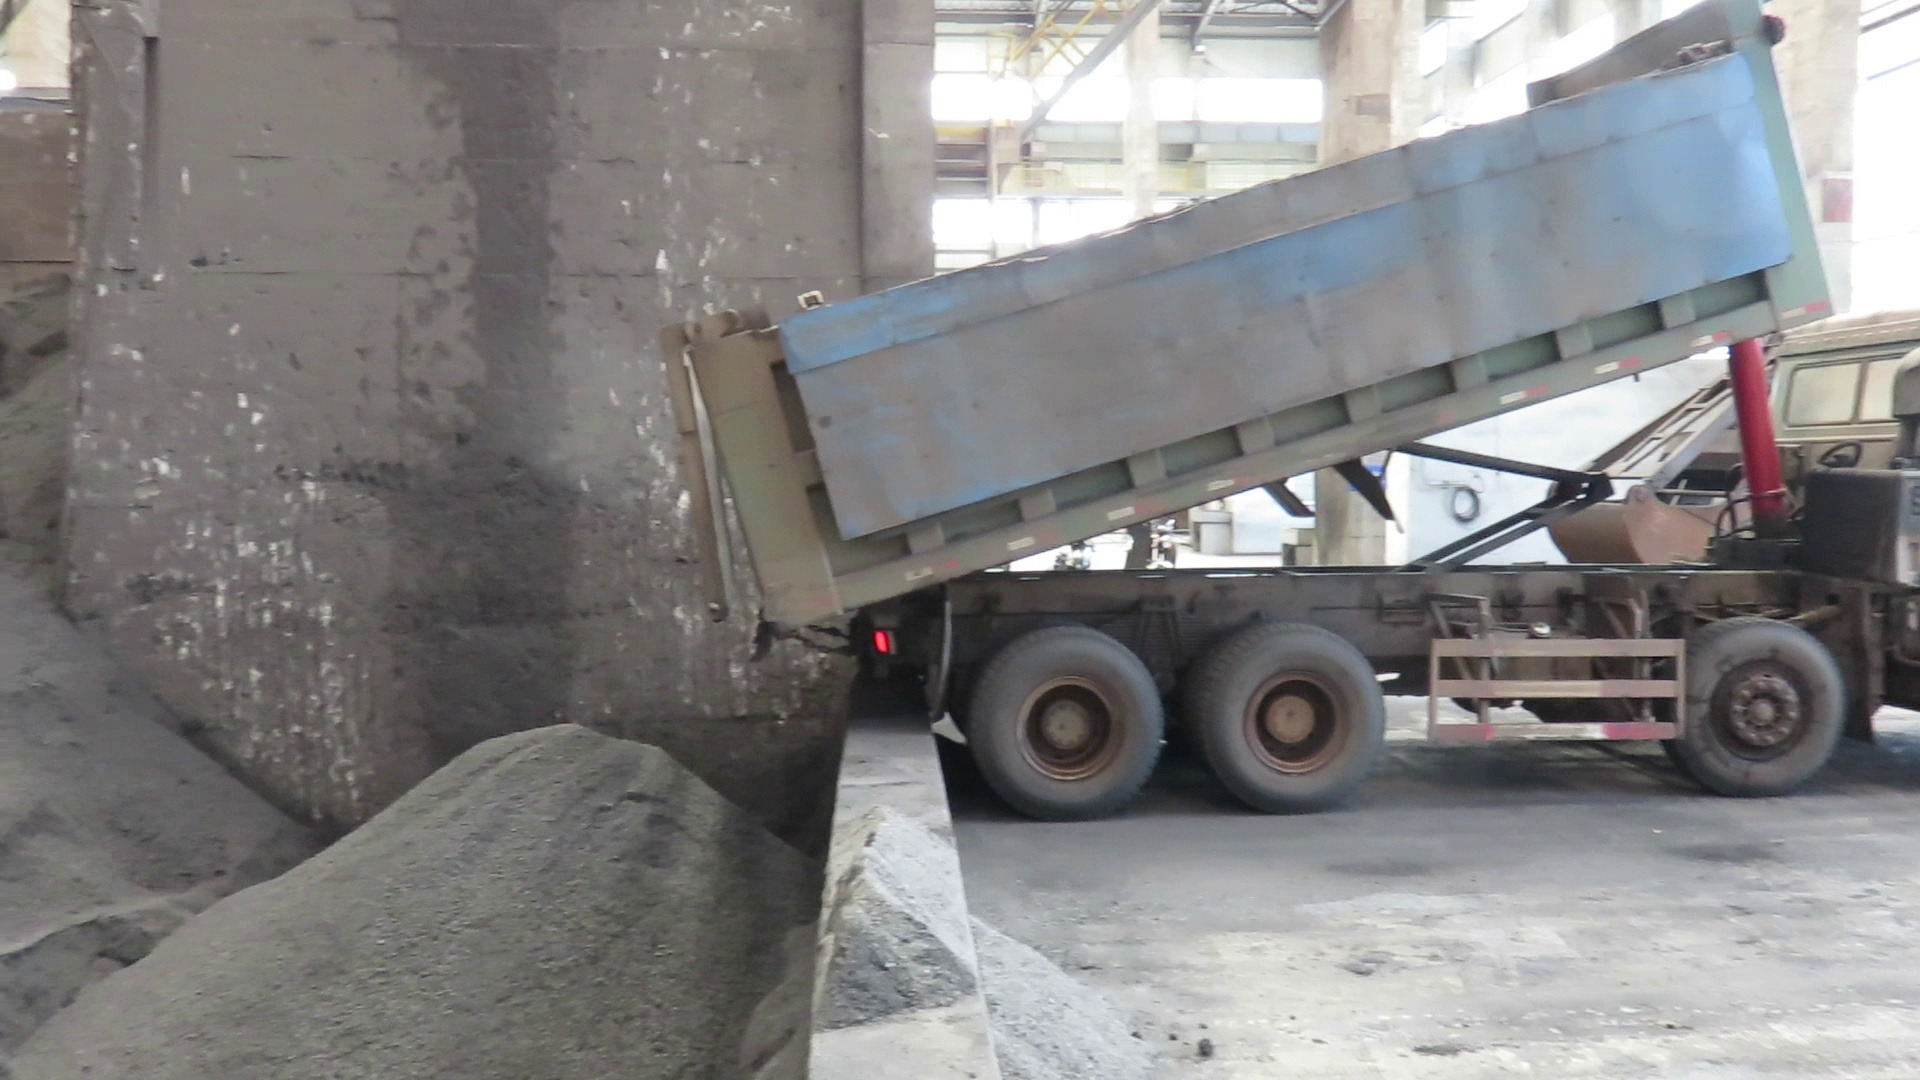truck: (646, 0, 1919, 827)
